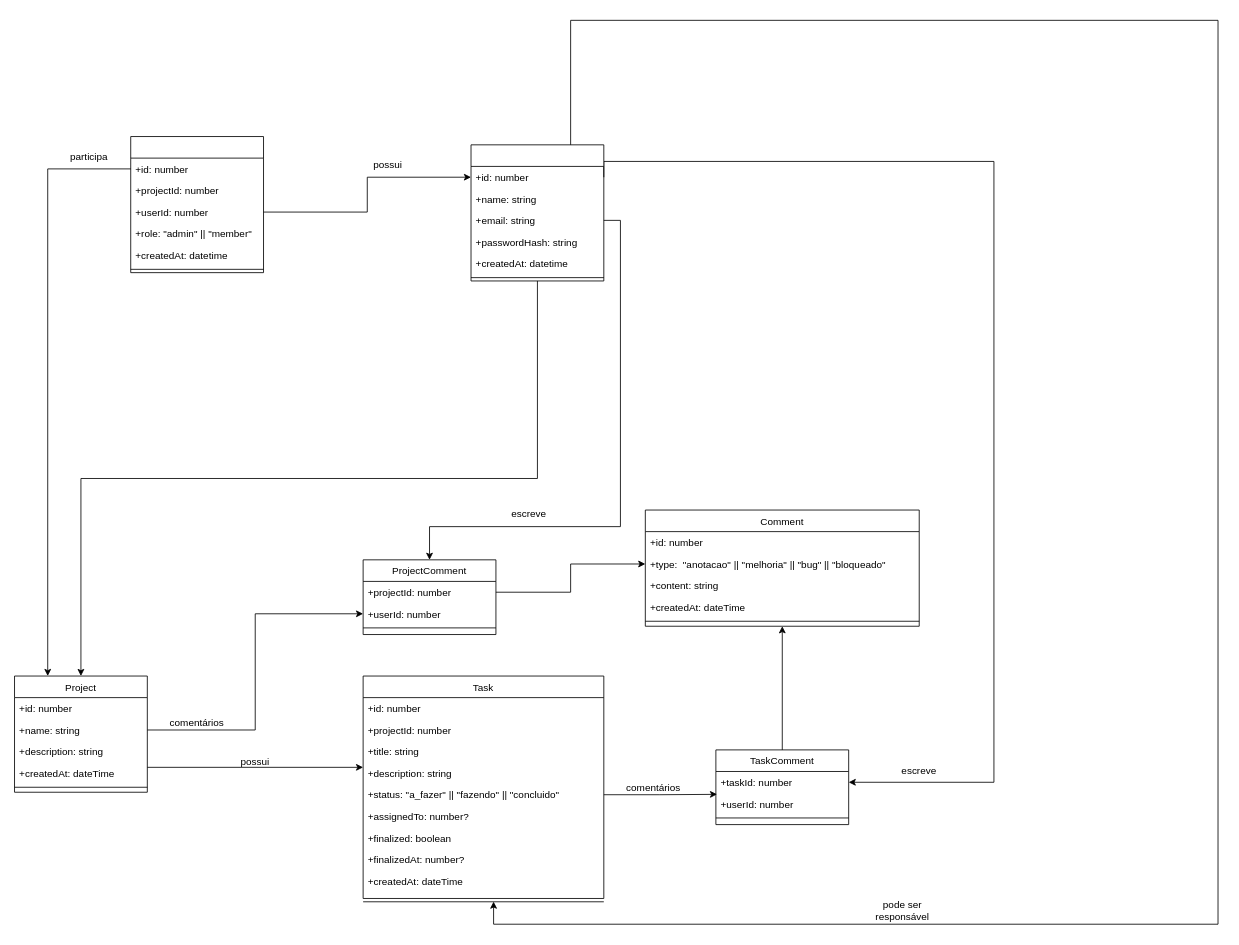
This 1239x945 diagram has some shape labels left out. The shapes that lost their labels are listed below. From the top down, each one's box as (x1, y1, x2, y2) in pixels, then its label:
(130, 136, 264, 273): ProjectMember
(470, 144, 604, 281): User
